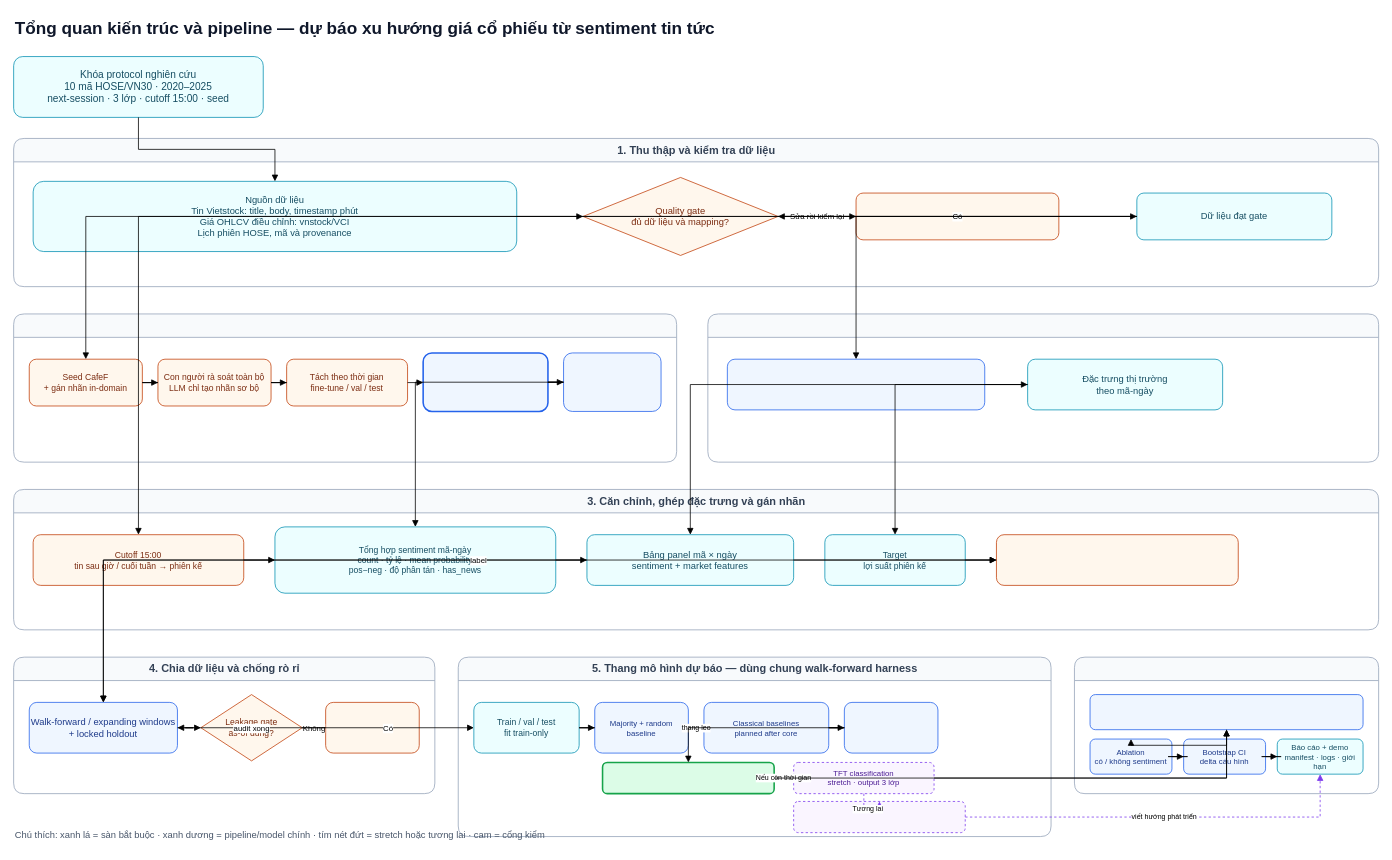
The diagram is 1392 pixels wide and 860 high, and some of its shapes have lost their labels. The shapes that lost their labels are listed below. From the top down, each one's box as (x1, y1, x2, y2) in pixels, then its label:
(855, 192, 1059, 240): Sửa nguồn / mapping hoặc báo coverage
(13, 313, 677, 462): 2A. Nhánh cảm xúc — PhoBERT
(422, 352, 548, 412): PhoBERT-base vinai/phobert-base fine-tune 3 lớp
(563, 352, 661, 411): Linear head → NEG / NEU / POS
(727, 358, 985, 410): Lợi suất, khối lượng và chỉ báo MA · volatility
(707, 313, 1379, 462): 2B. Nhánh giá — chuỗi thời gian
(996, 534, 1238, 585): Nhãn UP / FLAT / DOWN threshold fit trên train từng cửa sổ
(325, 702, 419, 753): Audit cutoff, scaler, imputer, threshold
(844, 702, 938, 753): LSTM một nhánh chỉ giá
(1089, 694, 1363, 730): So sánh cùng protocol macro-F1 · balanced accuracy · OvR-AUC
(1074, 656, 1379, 794): 6. Đánh giá, báo cáo và demo
(601, 761, 775, 794): LSTM hai nhánh + concat giá + sentiment SÀN TỐT NGHIỆP
(793, 801, 965, 833): Gated cross-attention HƯỚNG PHÁT TRIỂN · không code
